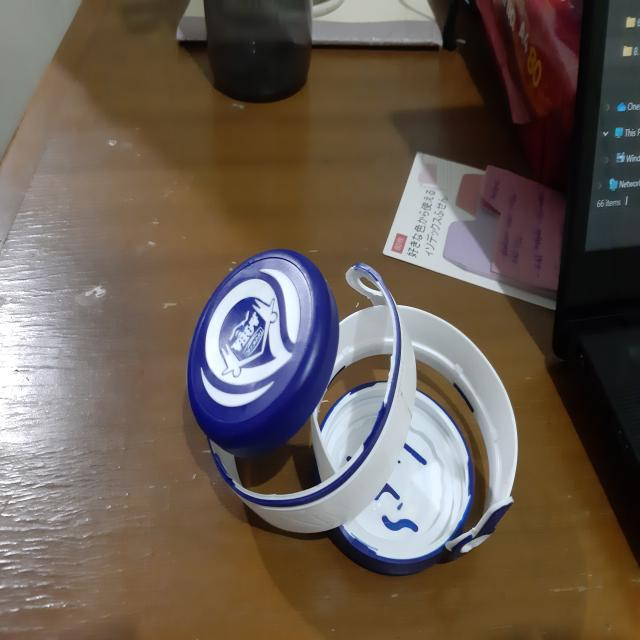TutupGalon: (181, 233, 545, 597)
